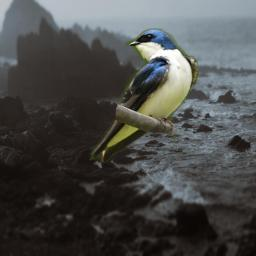Swallow: (89, 28, 199, 163)
